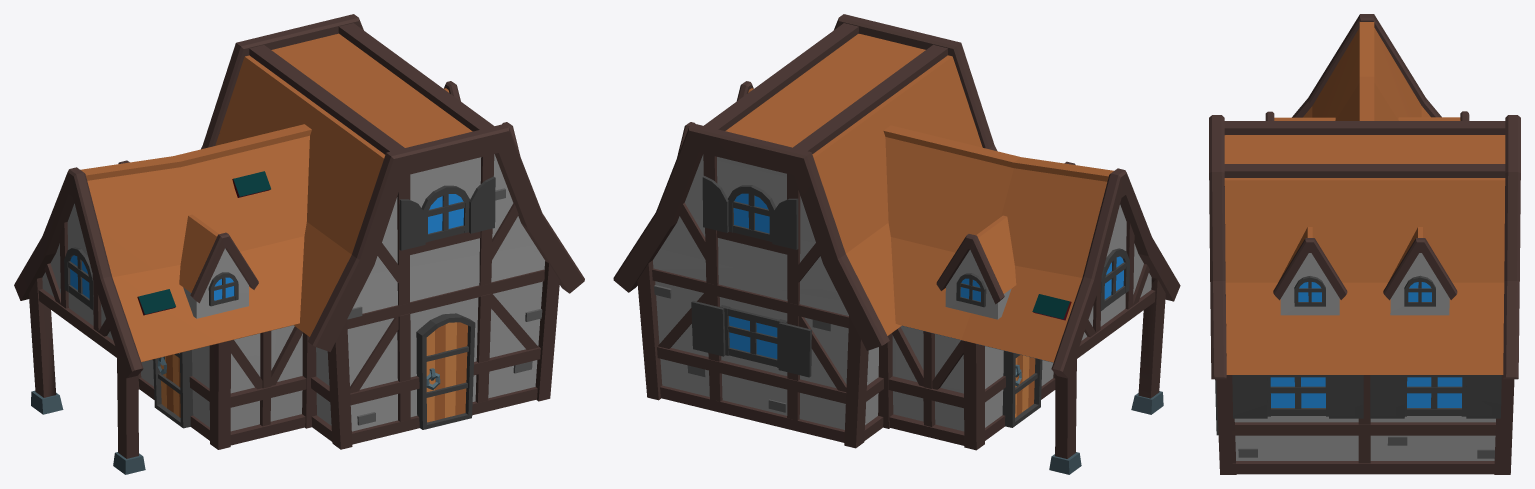
The model's file is House_4-2.fbx.
3 views of the same model, side by side, from view 1: azimuth 30°, elevation 25°; view 2: azimuth 150°, elevation 25°; view 3: azimuth 270°, elevation 25° (orthographic).
Visible parts, largest first — view 1: 2.002; view 2: 2.002; view 3: 2.002.
Boxes of the visible parts, box(x1,y1,x2,y2) form: 2.002: box(14, 14, 584, 474); 2.002: box(613, 14, 1180, 474); 2.002: box(1209, 14, 1520, 474).
Bounding box in the file's own units: 896 × 559 × 562.
